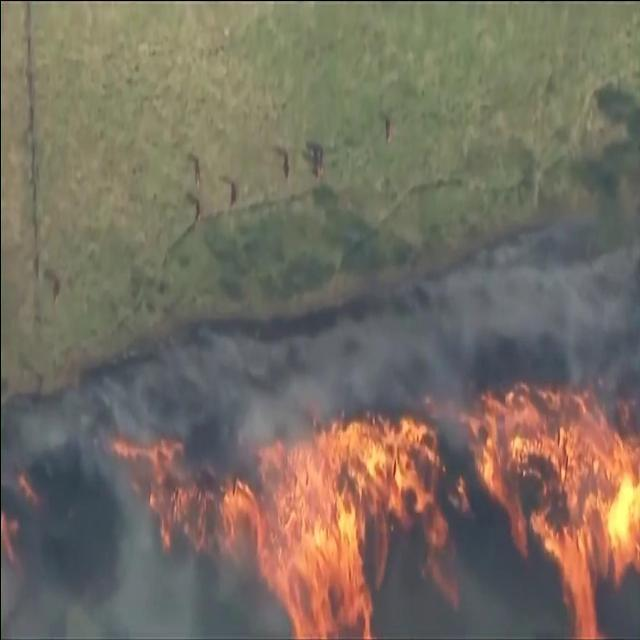Fire: (110, 434, 452, 636), (481, 388, 633, 626)
